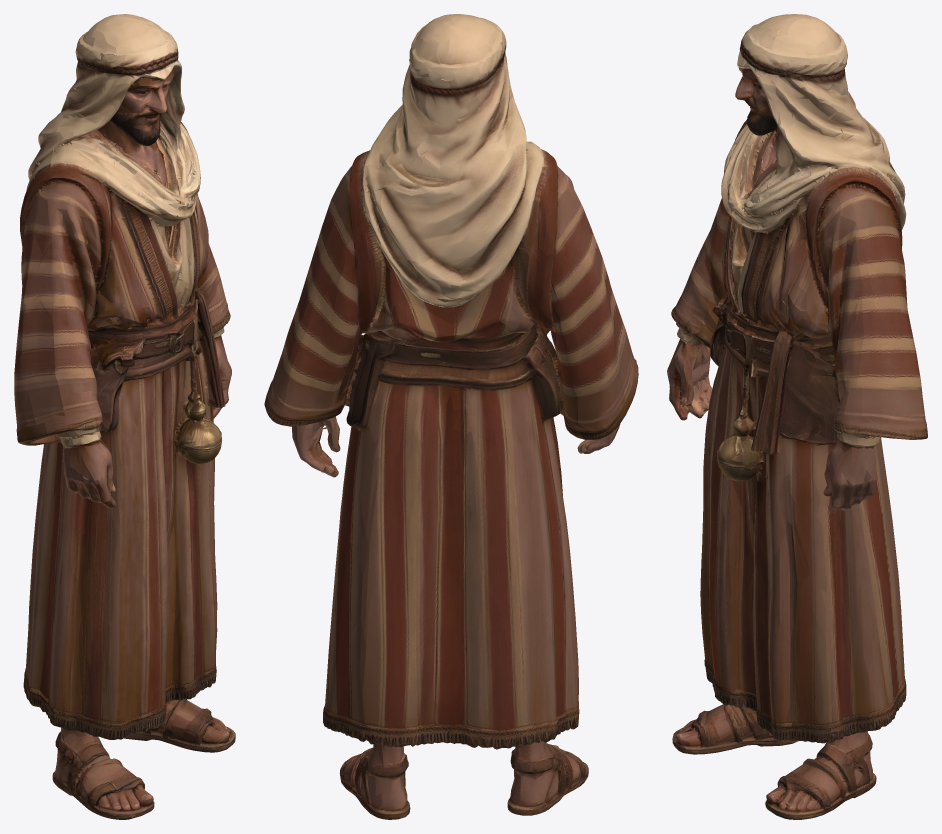
Rendered from npc-merchant.glb.
The picture shows the model from 3 angles, left to right: view 1: azimuth 30°, elevation 25°; view 2: azimuth 150°, elevation 25°; view 3: azimuth 270°, elevation 25°; orthographic projection. The views are drawn at different scales.
Parts seen in each view (by area): view 1: traveler; view 2: traveler; view 3: traveler.
Boxes of the visible parts, bbox=[...] form: traveler: bbox=[14, 14, 235, 819]; traveler: bbox=[264, 14, 638, 819]; traveler: bbox=[667, 14, 927, 819].
Size of the model in its own units: 0.6312 by 1.7 by 0.5353.
Materials: 1 (1 with a texture image).
